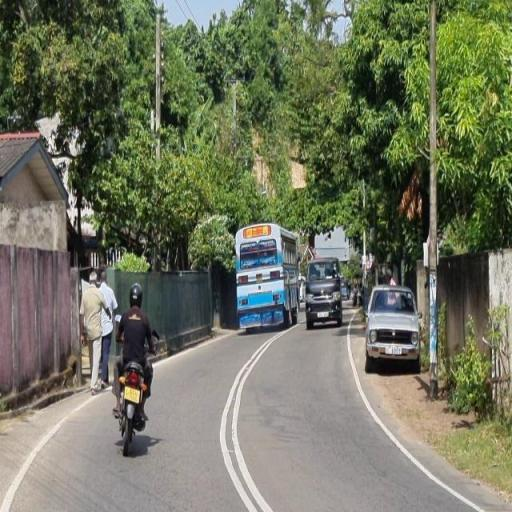double_white_line: (345, 324, 486, 511), (218, 320, 278, 512)
